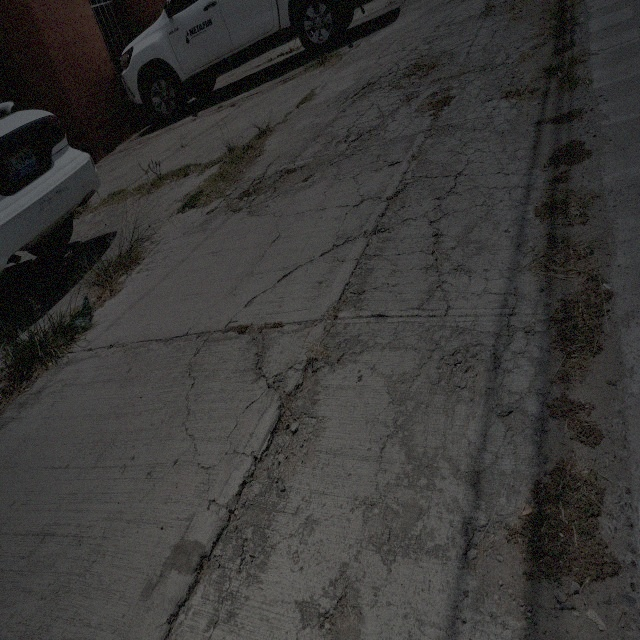pothole: (240, 354, 318, 526), (463, 505, 535, 617), (324, 588, 365, 634), (242, 179, 316, 185)
